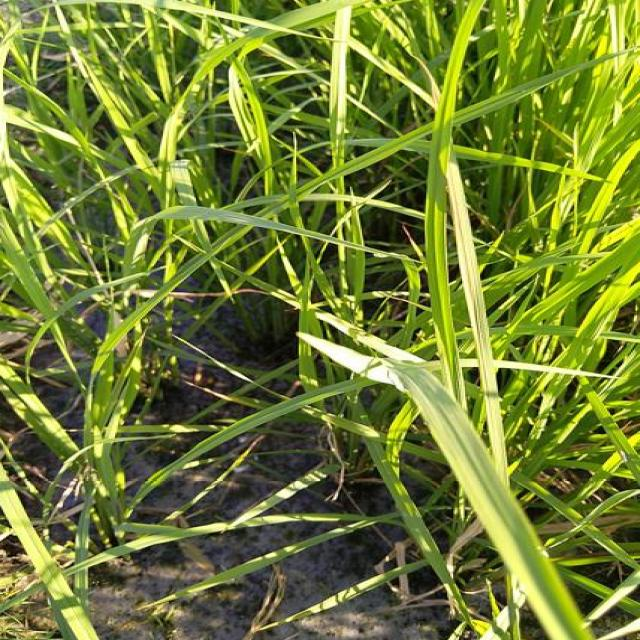Leaf Streak: (446, 153, 508, 464)
